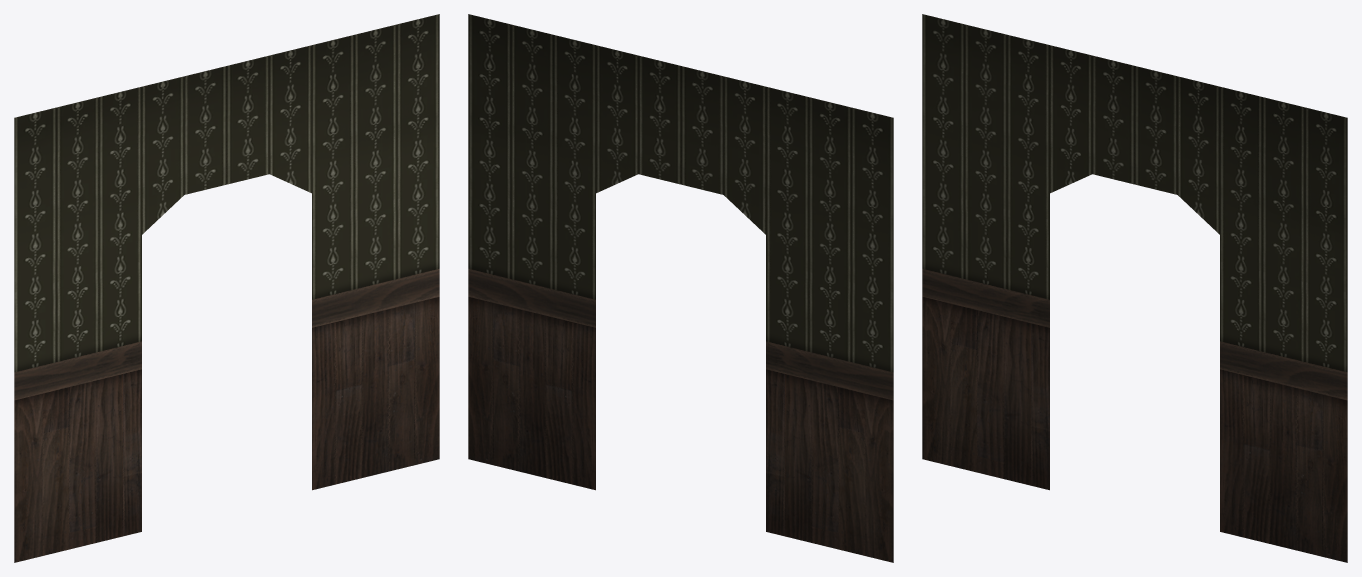
The model's file is Wall.WP_3x3_Archway.Small.fbx.
The picture shows the model from 3 angles, left to right: view 1: azimuth 30°, elevation 25°; view 2: azimuth 150°, elevation 25°; view 3: azimuth 330°, elevation 25°; orthographic projection.
Parts seen in each view (by area): view 1: Wall.WP_3x3_Archway.Small; view 2: Wall.WP_3x3_Archway.Small; view 3: Wall.WP_3x3_Archway.Small.
Boxes of the visible parts, x1=… form: Wall.WP_3x3_Archway.Small: x1=14, y1=14, x2=439, y2=562; Wall.WP_3x3_Archway.Small: x1=468, y1=14, x2=893, y2=562; Wall.WP_3x3_Archway.Small: x1=922, y1=14, x2=1347, y2=562.
Bounding box in the file's own units: 300 × 300 × 4.01e-05.
